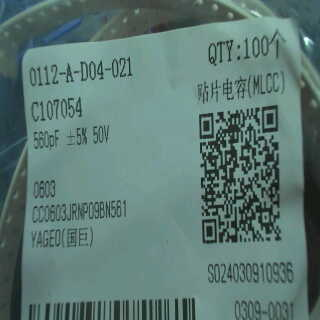560pF: (28, 124, 67, 155)
